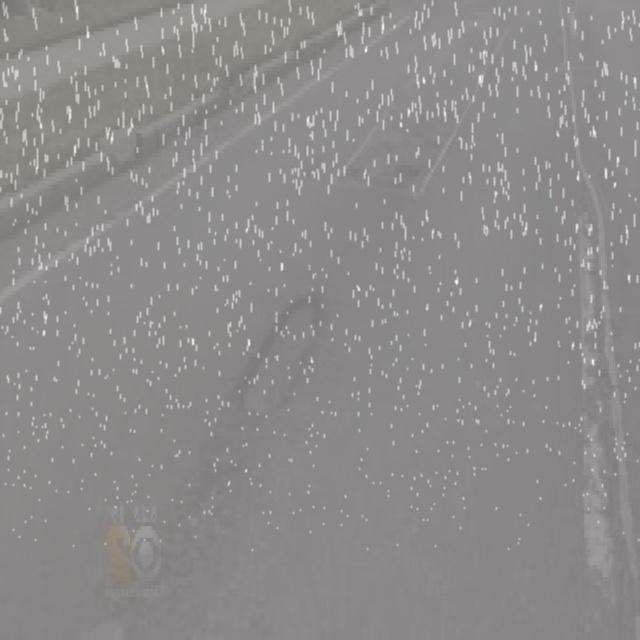Pothole: (228, 278, 330, 433), (322, 142, 428, 196)
